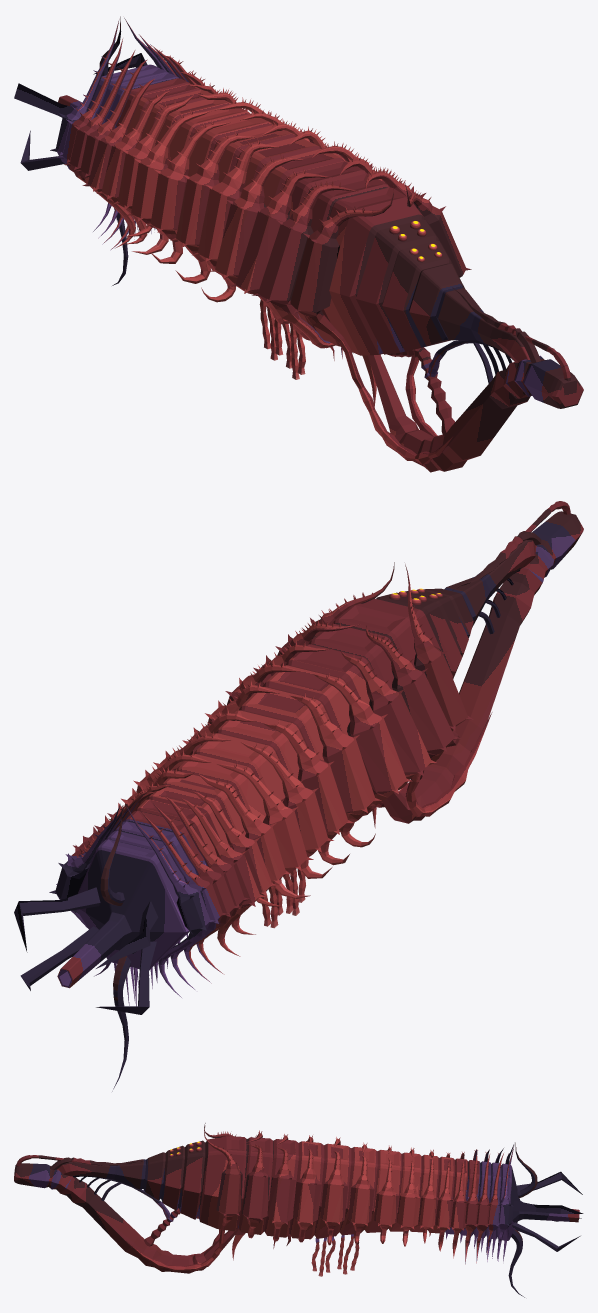
Rendered from remake_413.glb.
3 views of the same model, one above another, from view 1: azimuth 30°, elevation 25°; view 2: azimuth 150°, elevation 25°; view 3: azimuth 270°, elevation 25° (orthographic). The views are drawn at different scales.
Parts seen in each view (by area): view 1: remake_413; view 2: remake_413; view 3: remake_413.
Boxes of the visible parts, <box> form: remake_413: <box>14,16,583,472</box>; remake_413: <box>14,501,583,1091</box>; remake_413: <box>14,1123,583,1297</box>.
Bounding box in the file's own units: 0.4111 × 0.6379 × 1.86.
2 materials, 1 textured.
